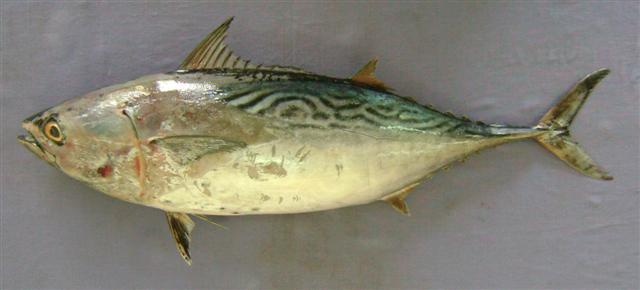Mulut: (12, 108, 44, 168)
Sirip Anal: (375, 169, 425, 227)
Sirip Dada: (148, 129, 254, 173)
Sirip Ekor: (526, 56, 626, 190)
Sirip Perut: (157, 197, 233, 273)
Sirip Punggung: (171, 8, 387, 88)
